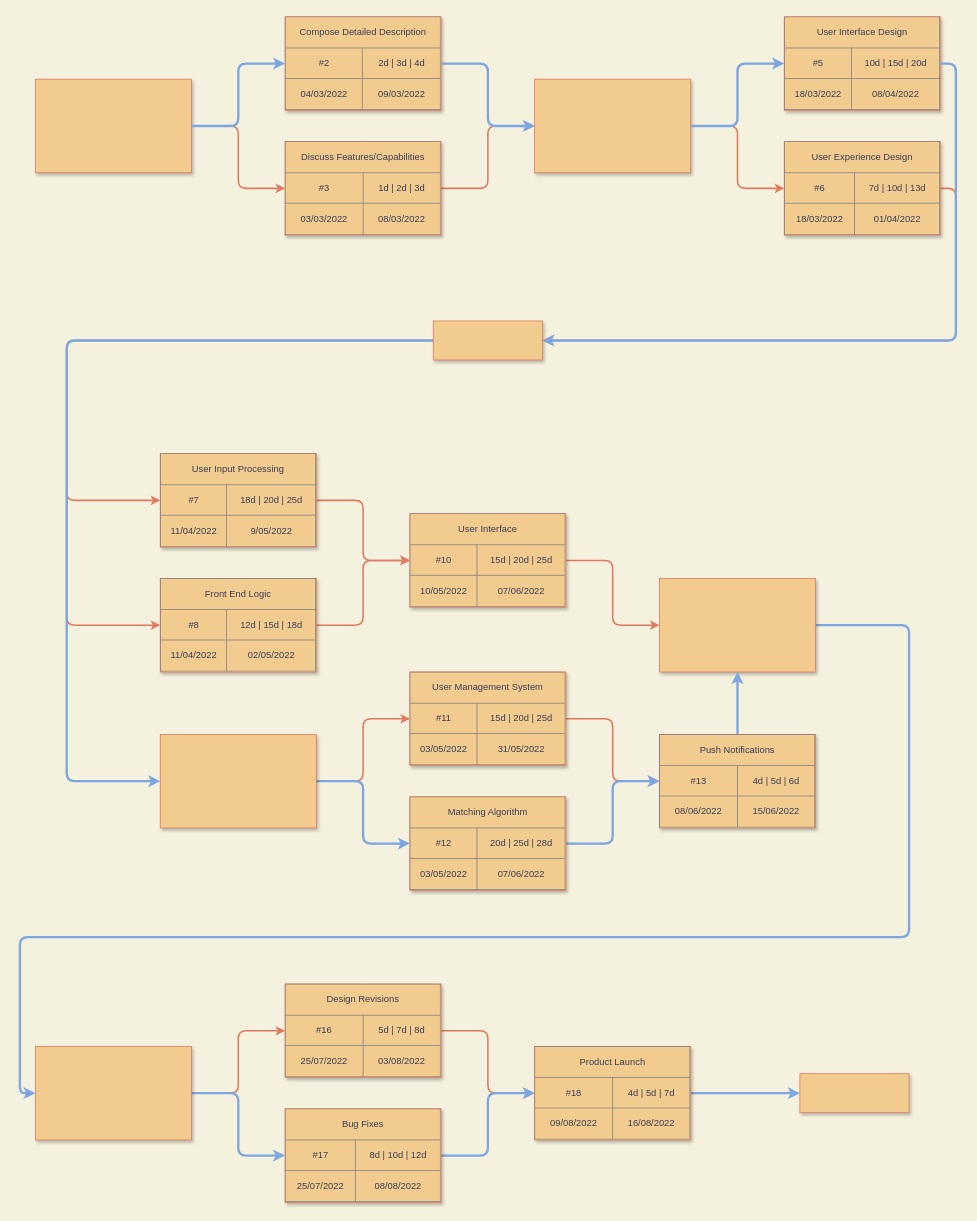
This 977x1221 diagram has some shape labels left out. The shapes that lost their labels are listed below. From the top down, each one's centre as x and y in pixels, then its label:
the point at 114,126: Document System Requirements #1 1d | 2d | 3d 01/03/2022 03/03/2022
the point at 613,126: Task Assignment/Planning #4 3d | 5d | 7d 10/03/2022 17/03/2022
the point at 488,341: Milestone Prototype
the point at 738,625: Intermediary Modules #14 10d | 15d | 20d 16/06/2022 07/07/2022
the point at 238,781: Database #9 12d | 15d | 18d 11/04/2022 02/05/2022
the point at 114,1093: Testing #1 5 7d | 10d | 13d 08/07/2022 22/07/2022
the point at 855,1094: Milestone Minimum Viable Product
